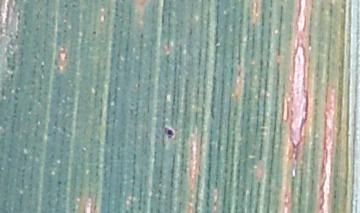tarspot: (160, 122, 177, 141)
